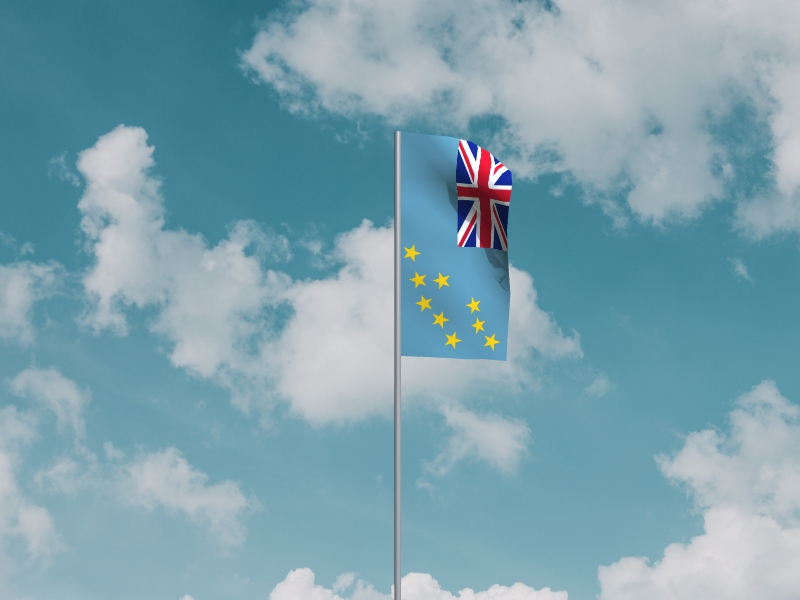tv: (401, 132, 514, 362)
